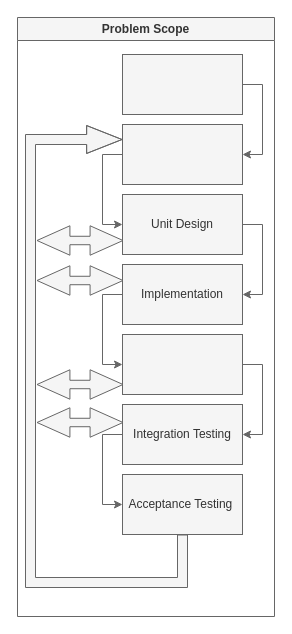
Some shapes in this 292 by 634 pixel diagram are drawn without their labels. Here are the shapes that lost their labels. From the top down, the centre of each, then its label:
(182,84): Requirements
(182,154): Design
(182,364): Unit Testing
